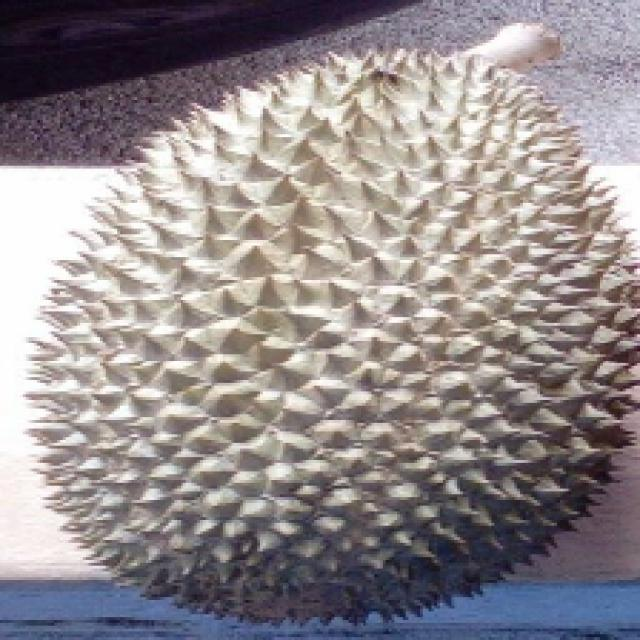d2: (64, 34, 630, 616)
